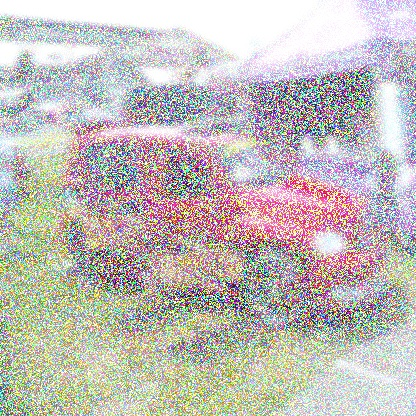Vehicle: (31, 100, 388, 328)
